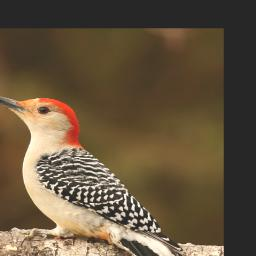Woodpecker: (0, 94, 219, 256)
